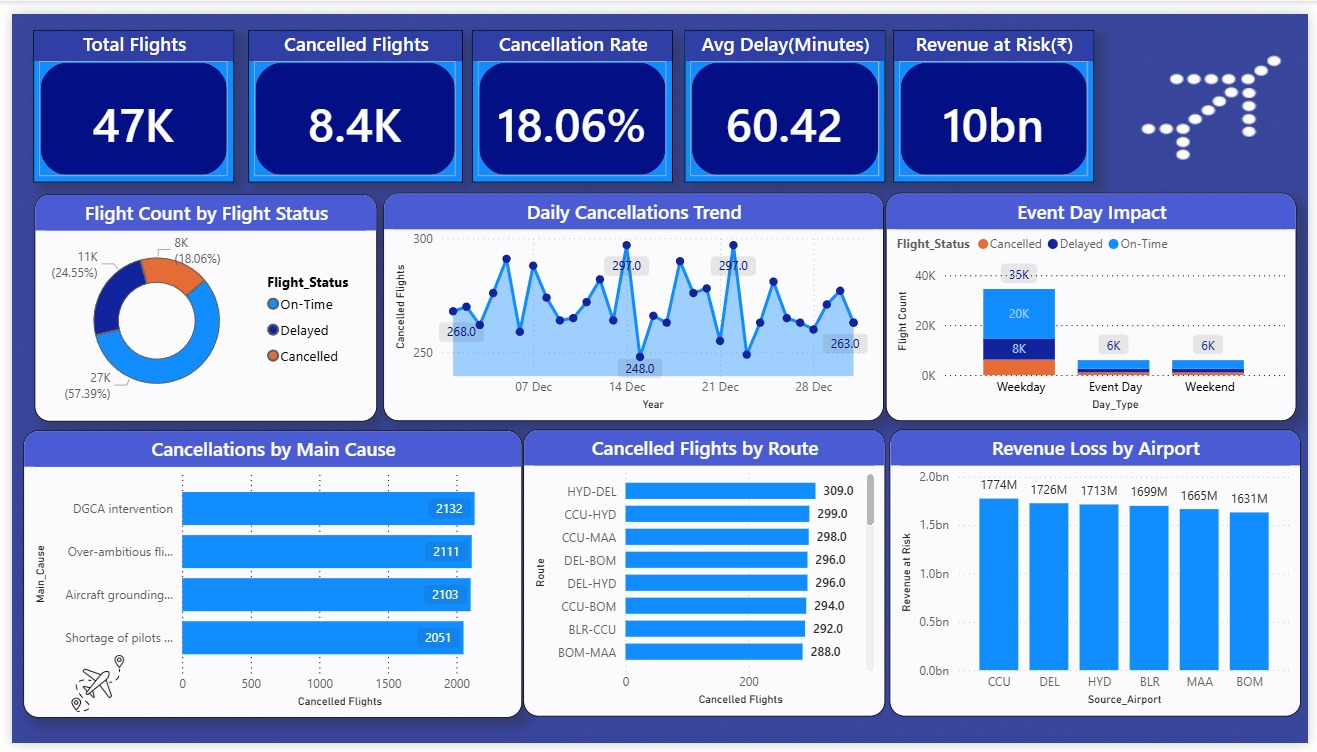

What the dashboard file says about the page in this screenshot:
{"tool":"powerbi","page":{"name":"Page 1","canvas":[1280,720],"ordinal":0},"visuals":[{"type":"cardVisual","title":"Total Flights","fields":{"Data":["INDIGO_December_2025.Total Flights"]},"box":[20.9,15.5,198.2,150],"z":0},{"type":"cardVisual","title":"Cancelled Flights","fields":{"Data":["INDIGO_December_2025.Cancelled Flights"]},"box":[232.7,15.5,211.8,150],"z":1000},{"type":"cardVisual","title":"Cancellation Rate","fields":{"Data":["INDIGO_December_2025.Cancellation Rate"]},"box":[454.5,15.5,198.2,150],"z":2000},{"type":"cardVisual","title":"Avg Delay(Minutes)","fields":{"Data":["INDIGO_December_2025.Avg Delay"]},"box":[663.6,15.5,198.2,150],"z":3000},{"type":"cardVisual","title":"Revenue at Risk(₹)","fields":{"Data":["INDIGO_December_2025.Revenue at Risk"]},"box":[870.9,15.5,198.2,150],"z":4000},{"type":"donutChart","title":"Flight Count by Flight Status","fields":{"Category":["INDIGO_December_2025.Flight_Status"],"Y":["INDIGO_December_2025.Flight Count"]},"box":[21.7,177.2,338,225],"z":5000},{"type":"lineChart","title":"Daily Cancellations Trend","fields":{"Y":["INDIGO_December_2025.Cancelled Flights"],"Category":["INDIGO_December_2025.Flight_Date.Variation.Date Hierarchy.Year","INDIGO_December_2025.Flight_Date.Variation.Date Hierarchy.Quarter","INDIGO_December_2025.Flight_Date.Variation.Date Hierarchy.Month","INDIGO_December_2025.Flight_Date.Variation.Date Hierarchy.Day"]},"box":[367.1,177.1,494.3,225.7],"z":6000},{"type":"columnChart","title":"Event Day Impact","fields":{"Category":["INDIGO_December_2025.Day_Type"],"Series":["INDIGO_December_2025.Flight_Status"],"Y":["INDIGO_December_2025.Flight Count"]},"box":[862.9,177.1,405.7,225.7],"z":7000},{"type":"clusteredBarChart","title":"Cancellations by Main Cause","fields":{"Category":["INDIGO_December_2025.Main_Cause"],"Y":["INDIGO_December_2025.Cancelled Flights"]},"box":[11.4,411.4,492.9,284.3],"z":8000},{"type":"clusteredBarChart","title":"Cancelled Flights by Route","fields":{"Category":["INDIGO_December_2025.Route"],"Y":["INDIGO_December_2025.Cancelled Flights"]},"box":[505,410,357.5,283.8],"z":9000},{"type":"clusteredColumnChart","title":"Revenue Loss by Airport","fields":{"Category":["INDIGO_December_2025.Source_Airport"],"Y":["INDIGO_December_2025.Revenue at Risk"]},"box":[866.2,410,406.2,283.8],"z":10000},{"type":"image","box":[11.4,628.6,147.1,65.7],"z":11000}]}

Visuals, with their boxes in screenshot pixels (x1, y1, x2, y2), scaled from the page's 1280x720 canvas onto the 1317x752 screenshot:
"Total Flights" cardVisual: pyautogui.locateOnScreen(22, 16, 225, 173)
"Cancelled Flights" cardVisual: pyautogui.locateOnScreen(239, 16, 457, 173)
"Cancellation Rate" cardVisual: pyautogui.locateOnScreen(468, 16, 672, 173)
"Avg Delay(Minutes)" cardVisual: pyautogui.locateOnScreen(683, 16, 887, 173)
"Revenue at Risk(₹)" cardVisual: pyautogui.locateOnScreen(896, 16, 1100, 173)
"Flight Count by Flight Status" donutChart: pyautogui.locateOnScreen(22, 185, 370, 420)
"Daily Cancellations Trend" lineChart: pyautogui.locateOnScreen(378, 185, 886, 421)
"Event Day Impact" columnChart: pyautogui.locateOnScreen(888, 185, 1305, 421)
"Cancellations by Main Cause" clusteredBarChart: pyautogui.locateOnScreen(12, 430, 519, 727)
"Cancelled Flights by Route" clusteredBarChart: pyautogui.locateOnScreen(520, 428, 887, 725)
"Revenue Loss by Airport" clusteredColumnChart: pyautogui.locateOnScreen(891, 428, 1309, 725)
image: pyautogui.locateOnScreen(12, 657, 163, 725)
